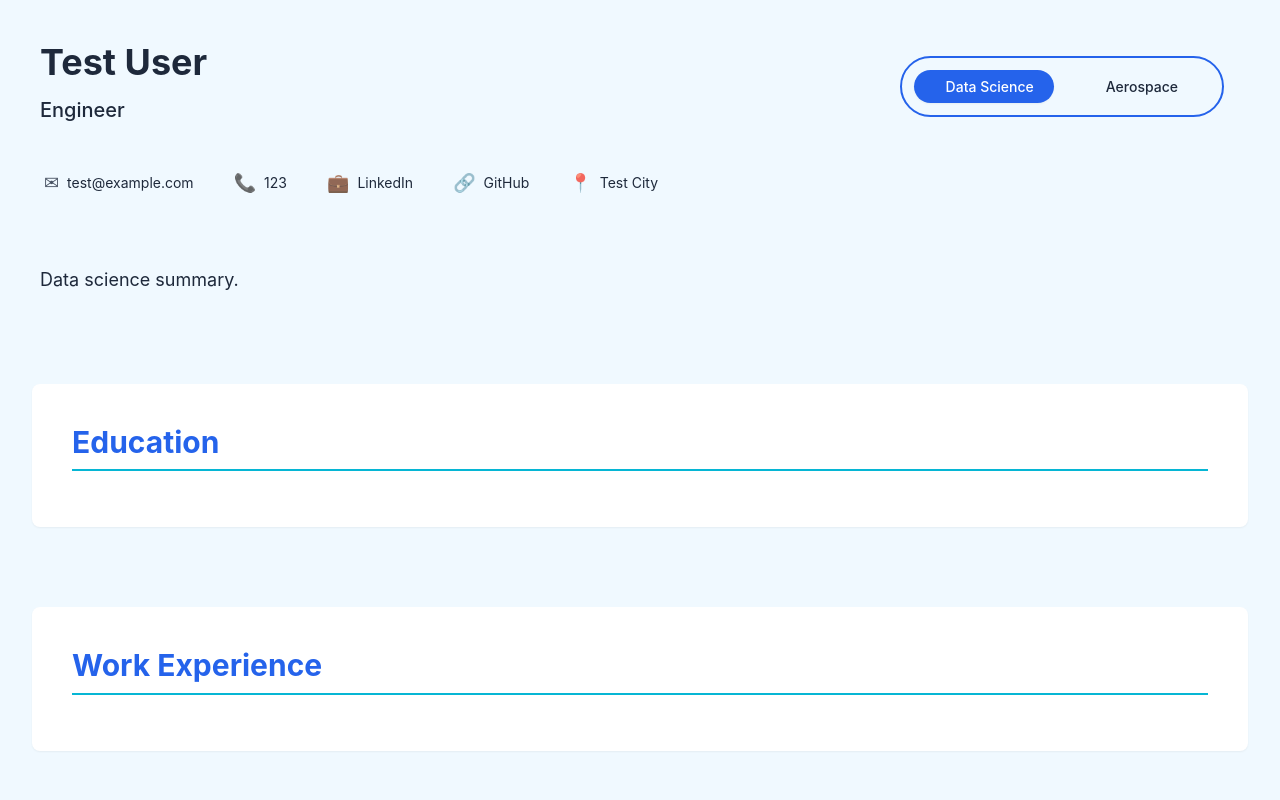
Test: Mode switching integration › Toggle switches back from aerospace to datascience
What coordinates should you click on to do the following:
click the button with aria-label "switch to aerospace"
I would click on:
 (990, 86)
Its box is x1=900 y1=56 x2=1224 y2=117.
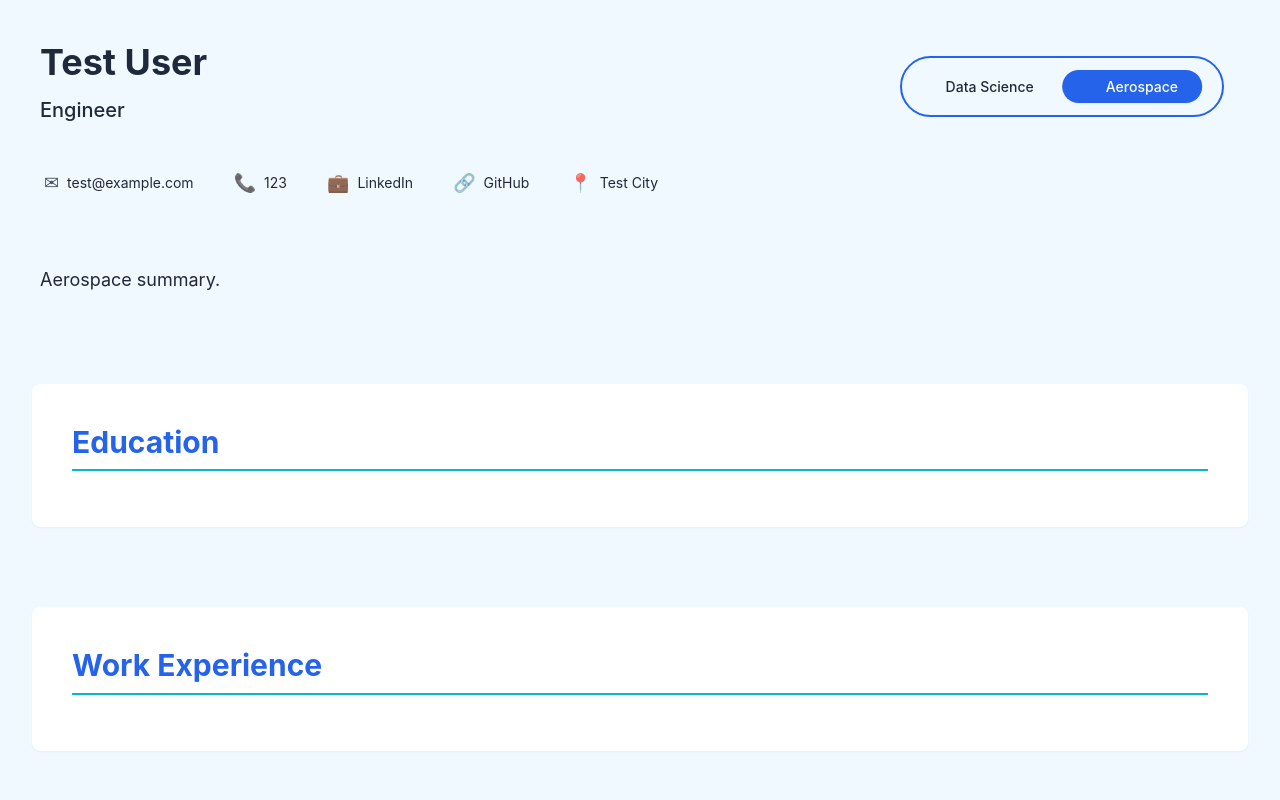
Now in aerospace mode — toggle back
What coordinates should you click on to do the following:
click the button with aria-label "switch to data science"
I would click on:
 (1062, 86)
Its box is x1=900 y1=56 x2=1224 y2=117.
(page scrolled)
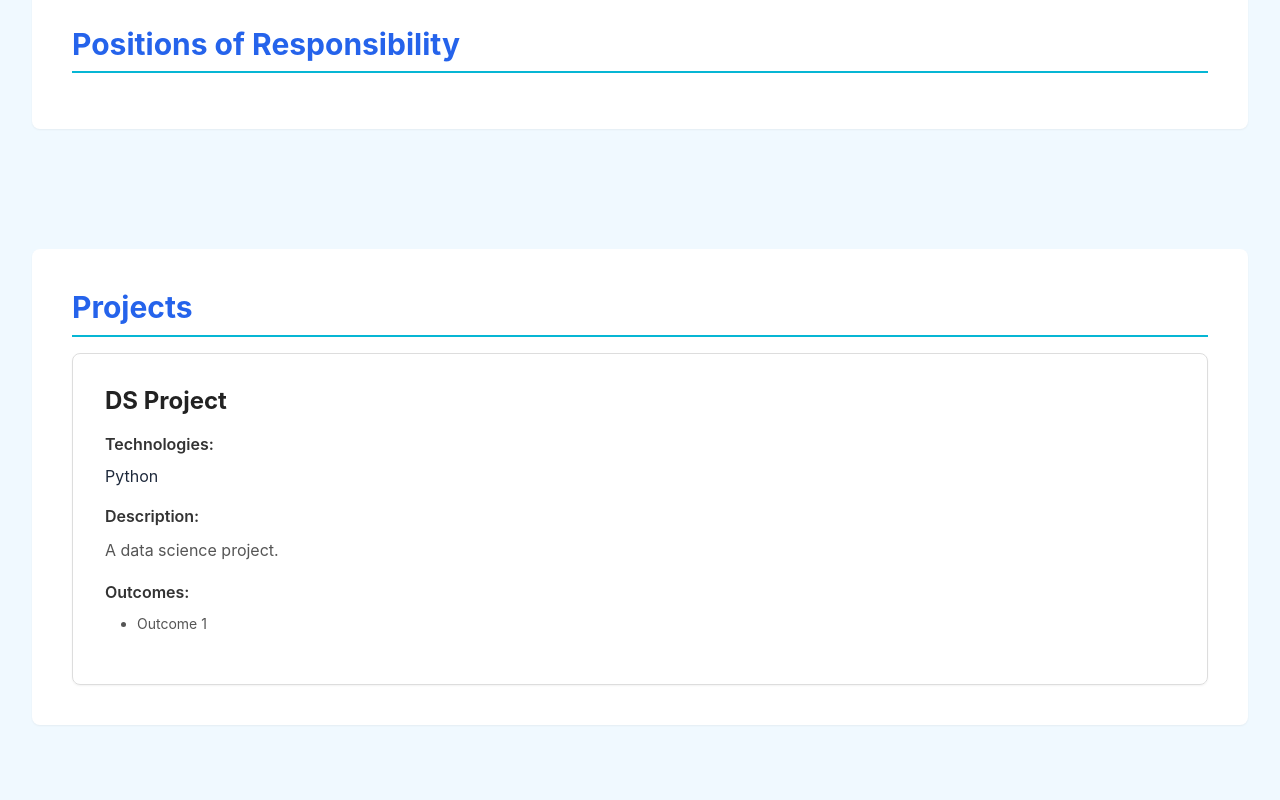
Check: the heading "DS Project" is shown, box x1=105 y1=386 x2=227 y2=414
